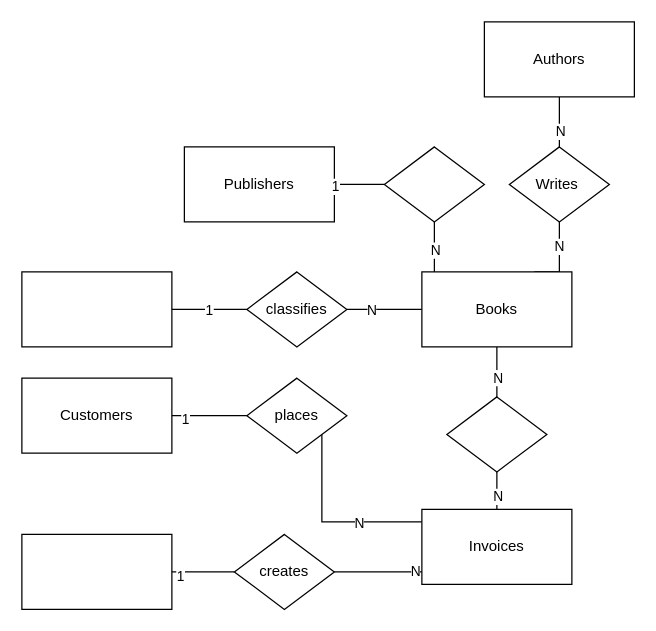
Image size: 656x631. Some labels were removed from this diagram. The shapes that lost their labels are listed below. From the top down, each one's box as (x1, y1, x2, y2) in pixels, then its label:
(383, 146, 484, 222): publishes
(21, 271, 172, 347): Genres
(446, 396, 547, 472): purchases
(21, 533, 172, 609): Employees
